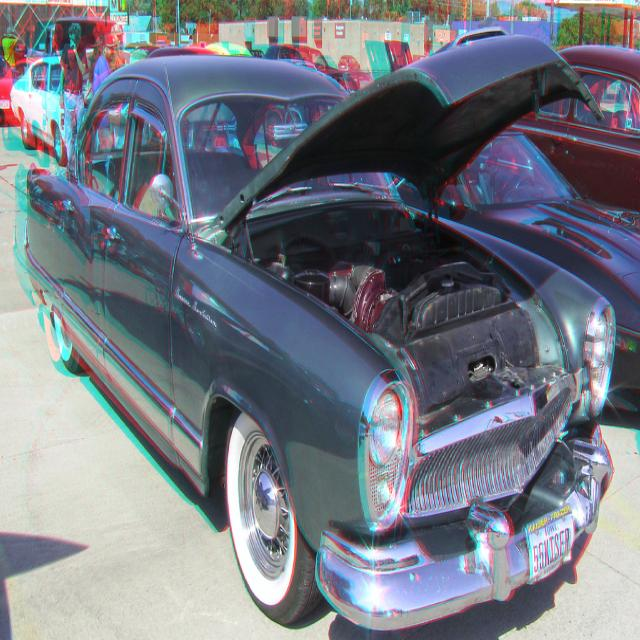car: (24, 23, 625, 634)
